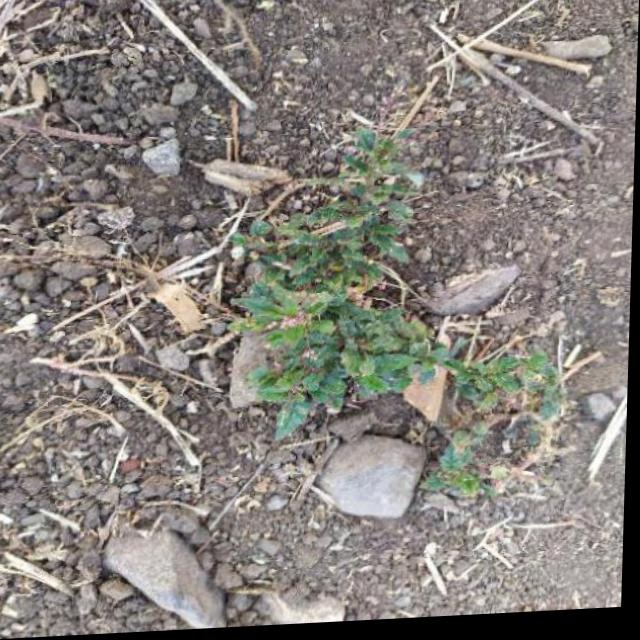weed: (244, 139, 570, 471)
